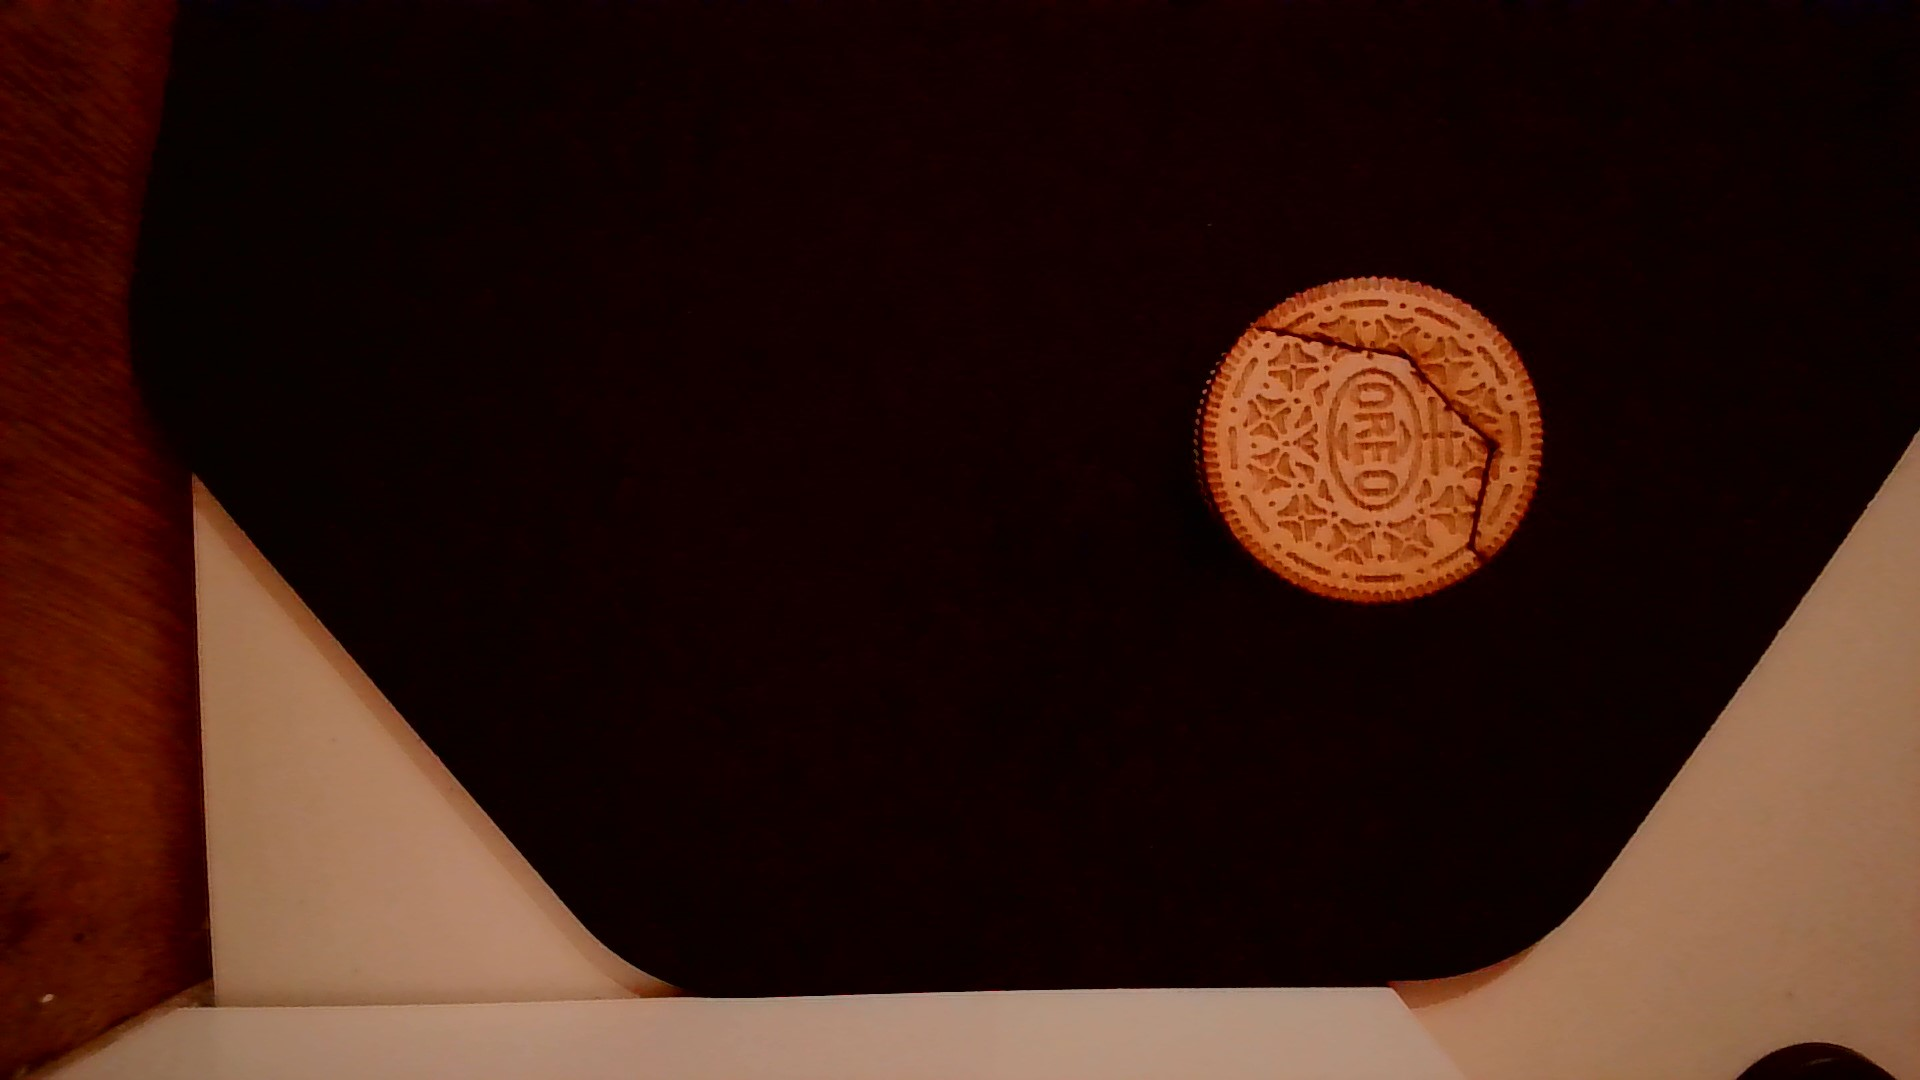Fissure: (1244, 299, 1513, 579)
Oréo: (1185, 262, 1551, 616)
